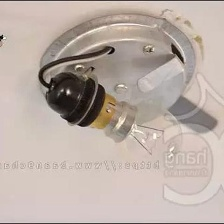light_bulb: (84, 91, 188, 171)
